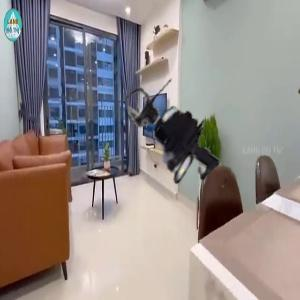drone: (100, 73, 248, 221)
